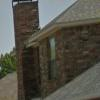Chimney: (8, 2, 42, 84)
